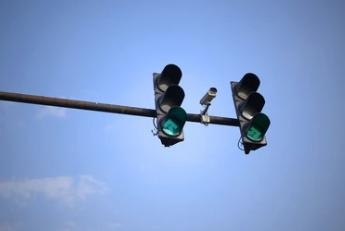green_light: (231, 73, 270, 150), (153, 64, 187, 141)
